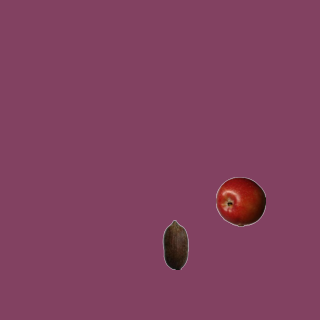Apple Braeburn: (215, 176, 265, 226)
Nut Pecan: (150, 219, 200, 269)
